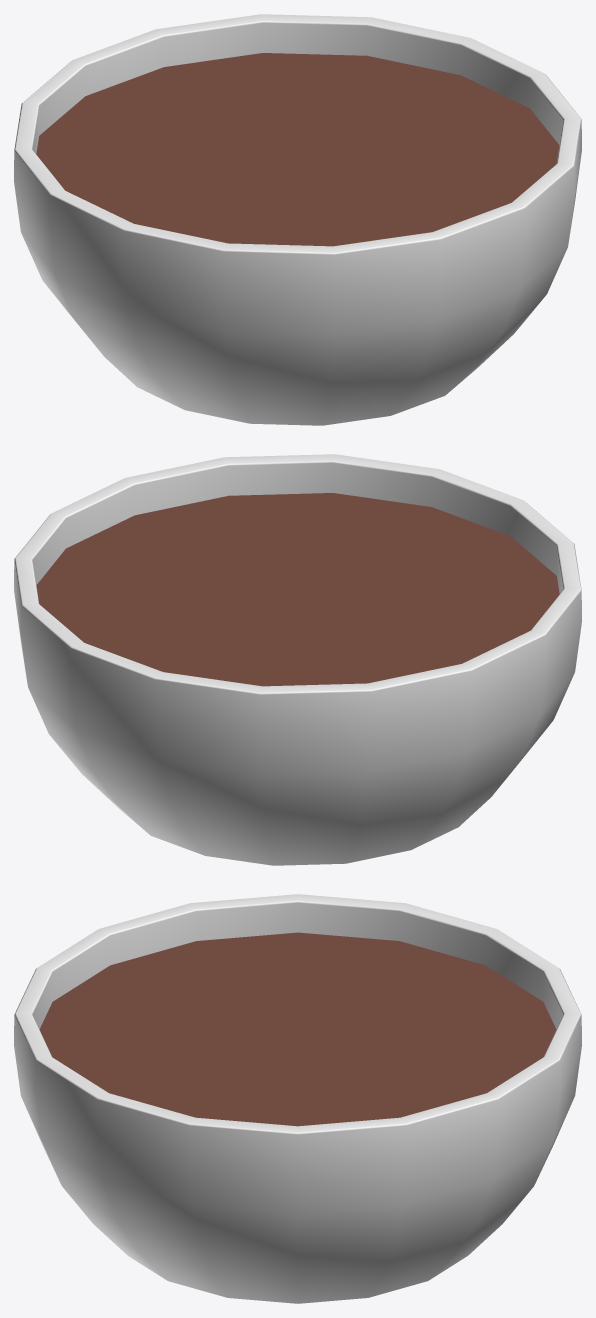
The model's file is City_9_Cup_1.glb.
The picture shows the model from 3 angles, top to bottom: view 1: azimuth 30°, elevation 25°; view 2: azimuth 150°, elevation 25°; view 3: azimuth 270°, elevation 25°; orthographic projection.
Visible parts, largest first — view 1: City_9_Cup_1; view 2: City_9_Cup_1; view 3: City_9_Cup_1.
Part boxes in pixels (x1,y1,x2,y2): City_9_Cup_1: (14, 14, 581, 425); City_9_Cup_1: (14, 454, 581, 865); City_9_Cup_1: (14, 894, 581, 1303).
Bounding box in the file's own units: 0.224 × 0.0955 × 0.224.
1 material, 1 textured.
